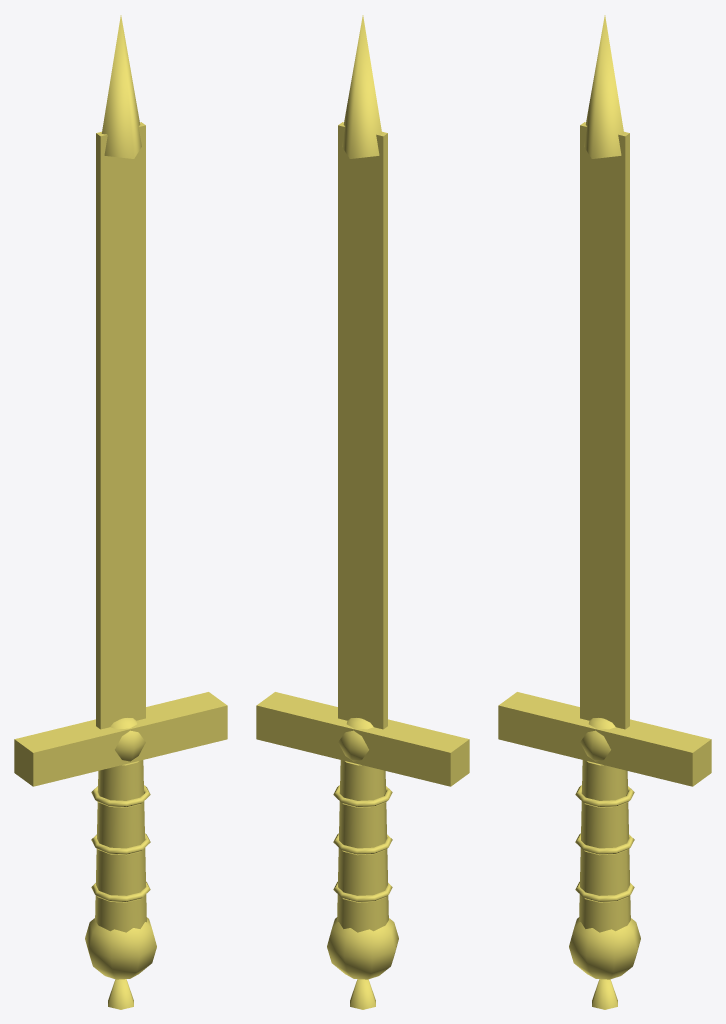
Rendered from 10_guom_thuan_thien.glb.
3 views of the same model, side by side, from view 1: azimuth 30°, elevation 25°; view 2: azimuth 150°, elevation 25°; view 3: azimuth 330°, elevation 25° (orthographic).
Parts seen in each view (by area): view 1: GuomThuanThien; view 2: GuomThuanThien; view 3: GuomThuanThien.
Boxes of the visible parts, x1,y1,x2,y2 form: GuomThuanThien: (14, 15, 227, 1009); GuomThuanThien: (256, 15, 469, 1009); GuomThuanThien: (498, 15, 711, 1009).
Bounding box in the file's own units: 0.3 × 1.46 × 0.1.
